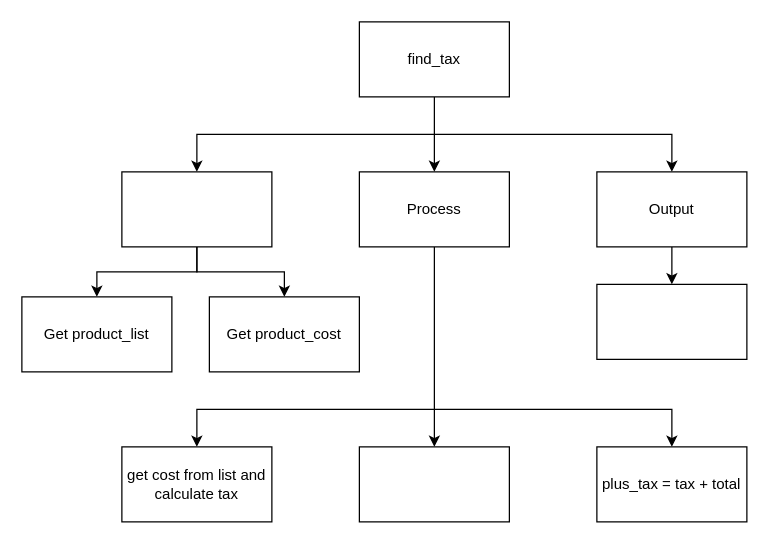
Some shapes in this 769 by 544 pixel diagram are drawn without their labels. The shapes that lost their labels are listed below. From the top down, each one's centre as x and y in pixels, then its label:
At [196,209]: "Input".
At [671,321]: "show plus_tax".
At [433,484]: "tax = total * 0.13".
